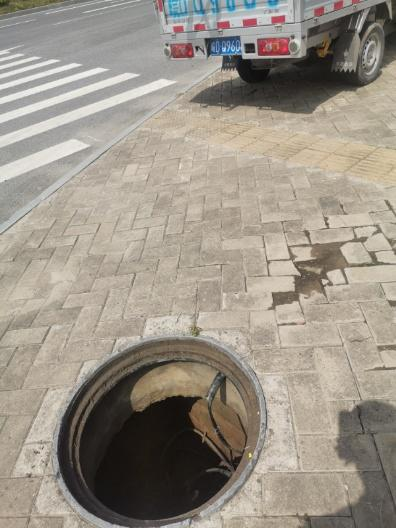wellcover: (48, 335, 263, 528)
